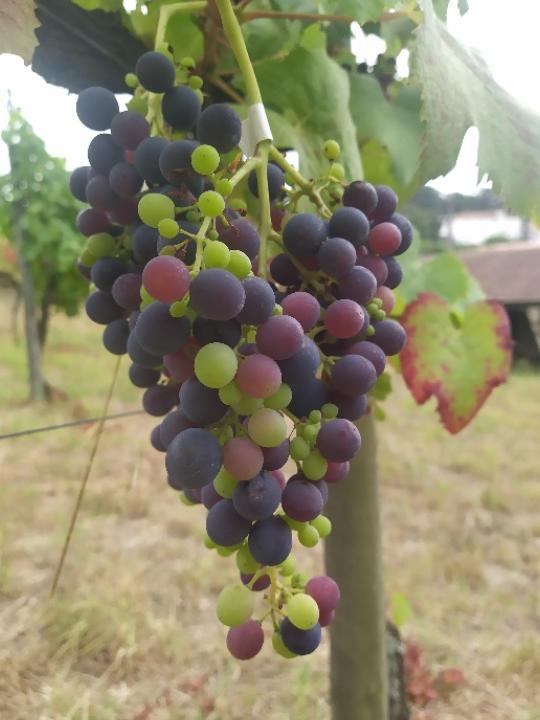grape: (66, 39, 417, 663)
